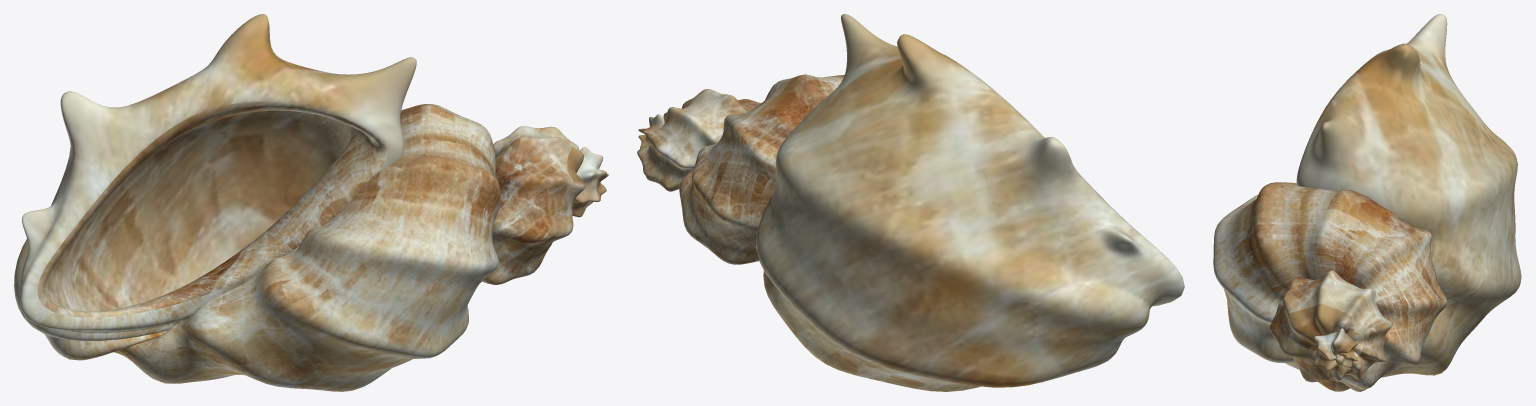
The model's file is shell.fbx.
The picture shows the model from 3 angles, left to right: view 1: azimuth 30°, elevation 25°; view 2: azimuth 150°, elevation 25°; view 3: azimuth 270°, elevation 25°; orthographic projection. The views are drawn at different scales.
Visible parts, largest first — view 1: 18769_King's_Crown_shell_v1_NEW; view 2: 18769_King's_Crown_shell_v1_NEW; view 3: 18769_King's_Crown_shell_v1_NEW.
Part boxes in pixels (bbox=[...]): 18769_King's_Crown_shell_v1_NEW: bbox=[14, 14, 608, 391]; 18769_King's_Crown_shell_v1_NEW: bbox=[637, 14, 1184, 391]; 18769_King's_Crown_shell_v1_NEW: bbox=[1213, 14, 1521, 391].
Bounding box in the file's own units: 930 × 552 × 489.
1 material, 1 textured.
